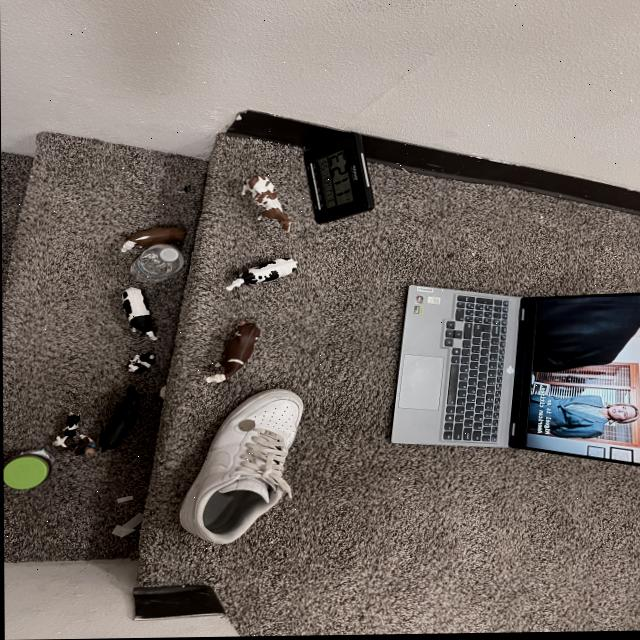cow: (203, 317, 266, 395), (90, 385, 151, 458), (238, 171, 295, 244), (222, 254, 299, 295), (117, 284, 158, 347), (118, 223, 187, 253), (51, 410, 85, 452), (123, 346, 158, 380), (72, 436, 91, 459)
person: (82, 443, 99, 460)
